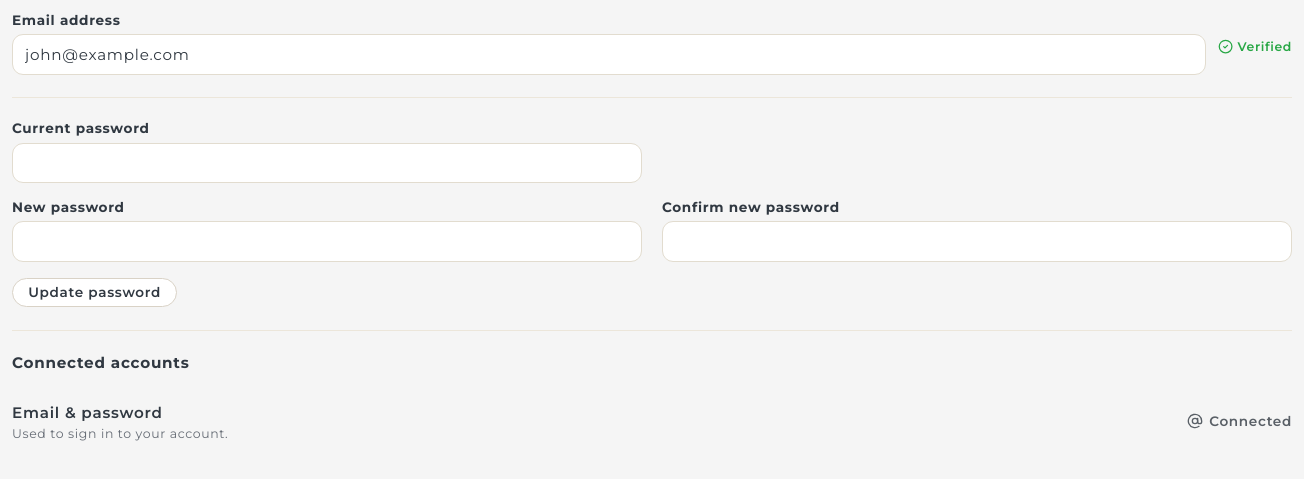
Scenario: Account & Security — change password › blocks reusing the current password as the new one
Type "samepass" into the password field labelled "Current password".
click(327, 163); type("samepass")  # box [12,143,642,183]
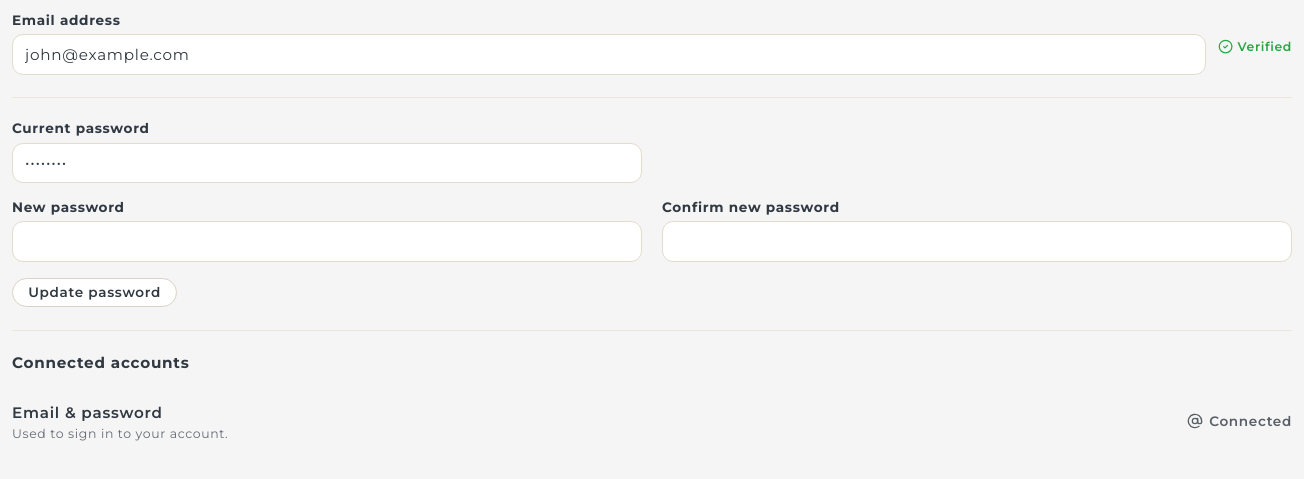
Type "samepass" into the password field labelled "New password".
click(327, 241); type("samepass")  # box [12,221,642,262]
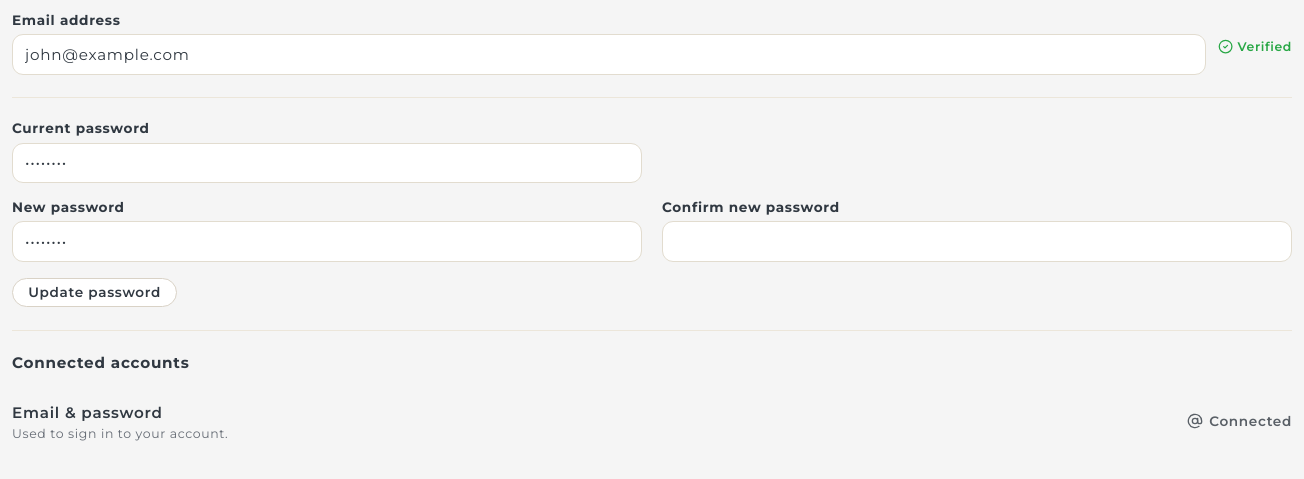
Type "samepass" into the password field labelled "Confirm new password".
click(977, 241); type("samepass")  # box [662,221,1292,262]
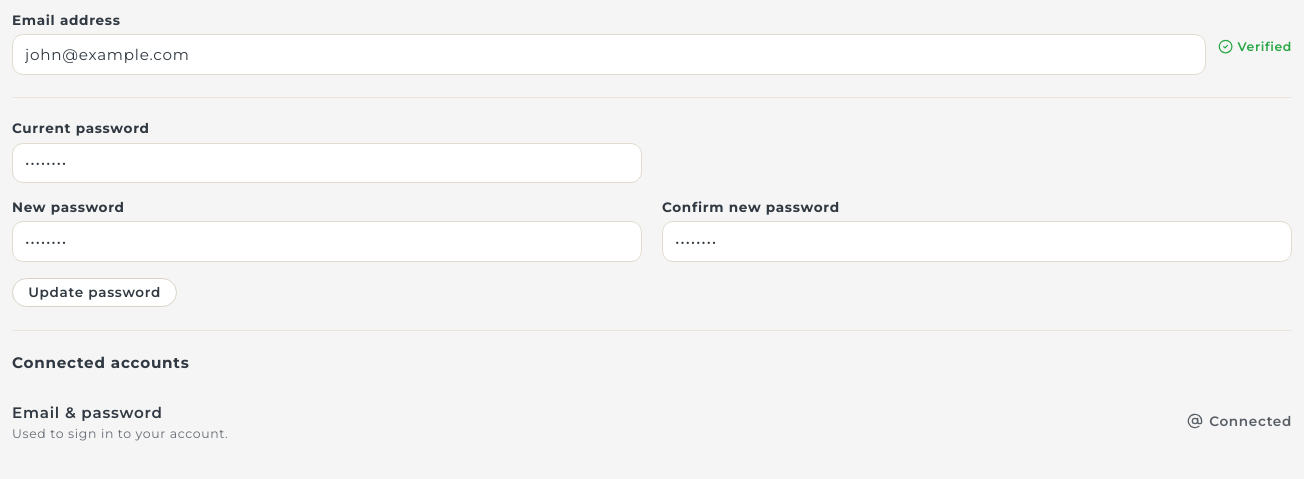
Click the button "Update password".
click(95, 292)  # box [12,278,177,308]
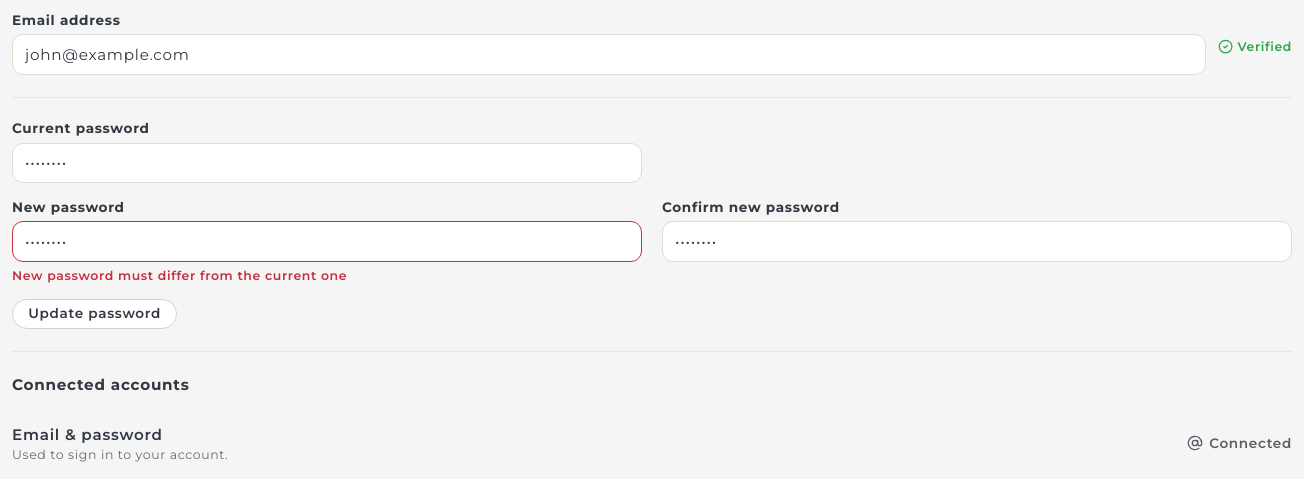
Result: the text "New password must differ from the current one" is shown at [12,268,347,283]
